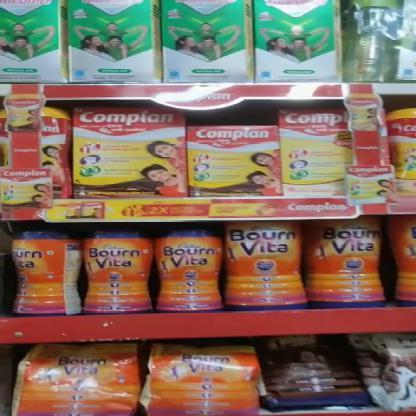Complan Kesar Badam: (278, 110, 348, 195)
Complan Royal Chocolate: (74, 107, 184, 199), (186, 126, 280, 196)
